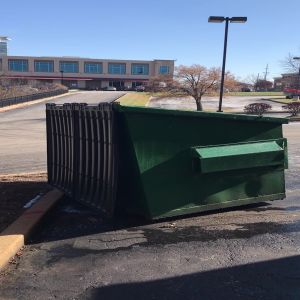Dumpster: (43, 100, 293, 222)
